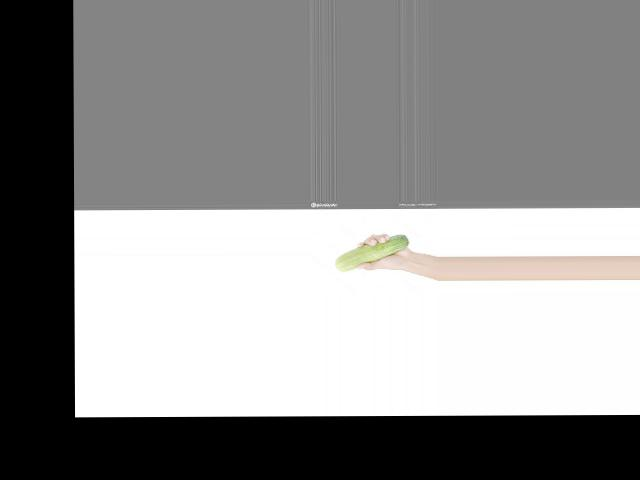cucumber: (335, 234, 409, 272)
